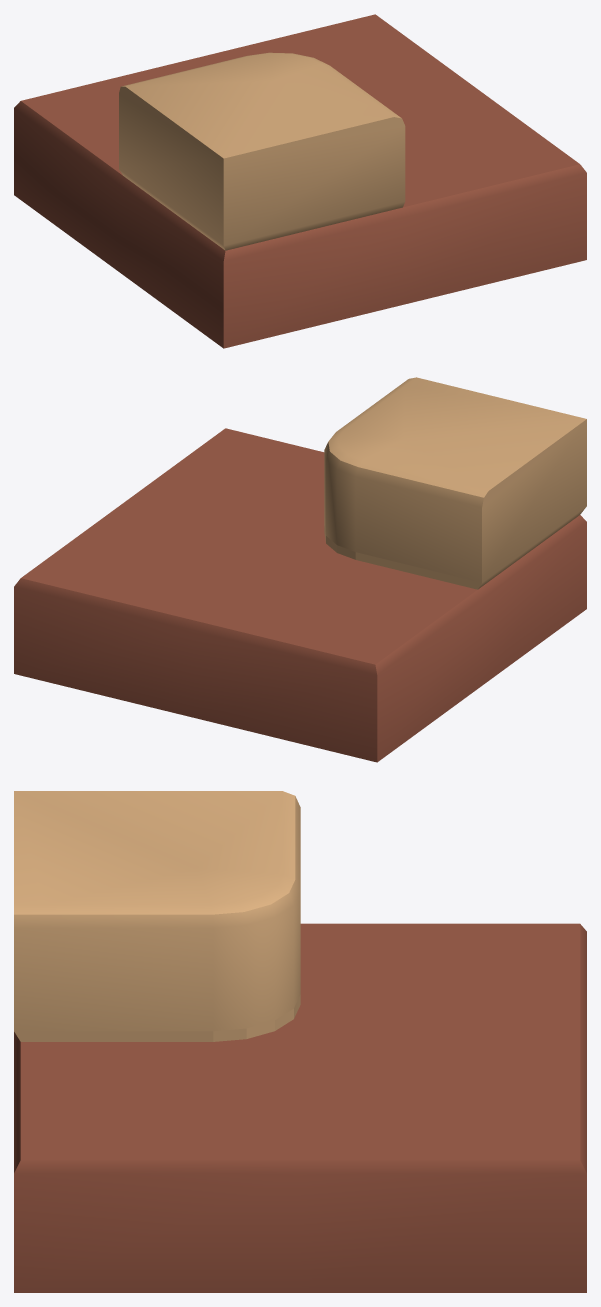
Rendered from square_sand_waterOuterCorner_empty.glb.
3 renders of one model, top to bottom at view 1: azimuth 30°, elevation 25°; view 2: azimuth 150°, elevation 25°; view 3: azimuth 270°, elevation 25°, orthographic. The views are drawn at different scales.
Parts seen in each view (by area): view 1: square_sand_waterOuterCorner_empty; view 2: square_sand_waterOuterCorner_empty; view 3: square_sand_waterOuterCorner_empty.
Part boxes in pixels (box(x1,y1,x2,y2)): square_sand_waterOuterCorner_empty: box(14, 14, 586, 348); square_sand_waterOuterCorner_empty: box(14, 377, 586, 762); square_sand_waterOuterCorner_empty: box(14, 791, 586, 1292).
Size of the model in its own units: 2 by 1 by 2.
